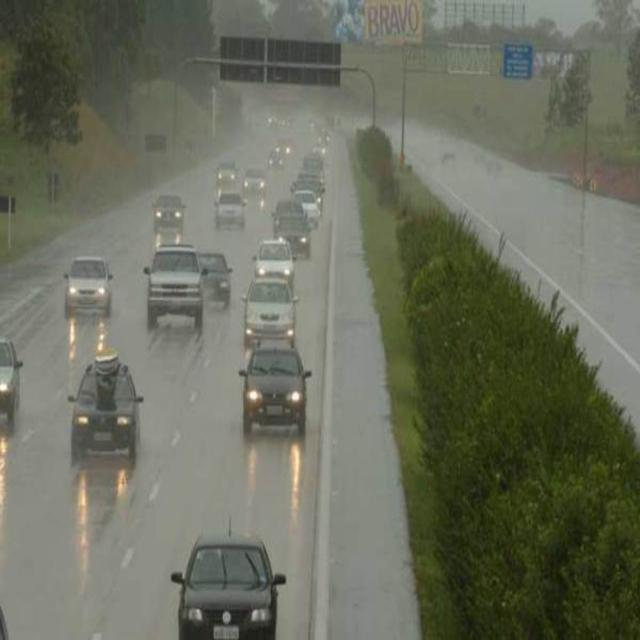car: (175, 534, 283, 639), (68, 357, 140, 461), (240, 346, 310, 438), (145, 244, 205, 332), (242, 276, 296, 356), (65, 254, 113, 316), (252, 238, 296, 298), (1, 336, 22, 427), (200, 250, 233, 305), (151, 193, 185, 226), (280, 218, 314, 248), (214, 191, 244, 224), (293, 185, 317, 217), (240, 164, 266, 190), (214, 161, 235, 184), (271, 205, 303, 220)
